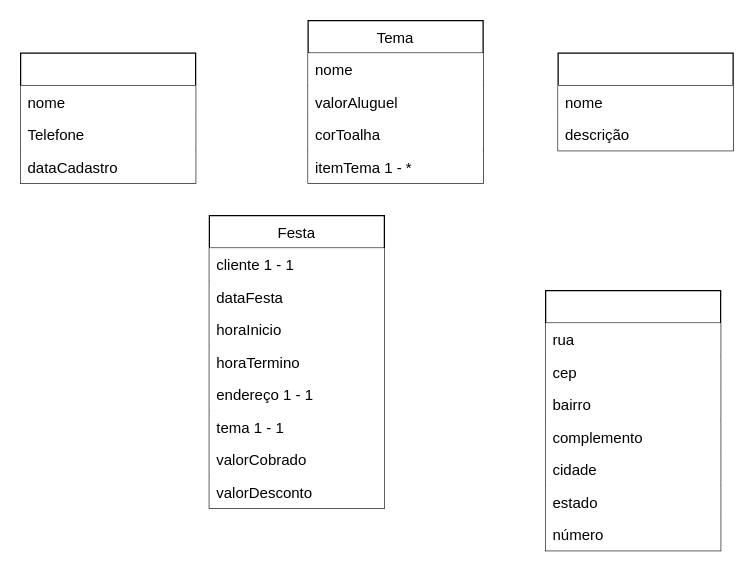
Some shapes in this 754 by 571 pixel diagram are drawn without their labels. Each missing label, with the box of its shape:
Cliente 1 - *: (19, 52, 196, 183)
Endereço: (544, 289, 721, 551)
itemTema: (557, 52, 733, 151)
